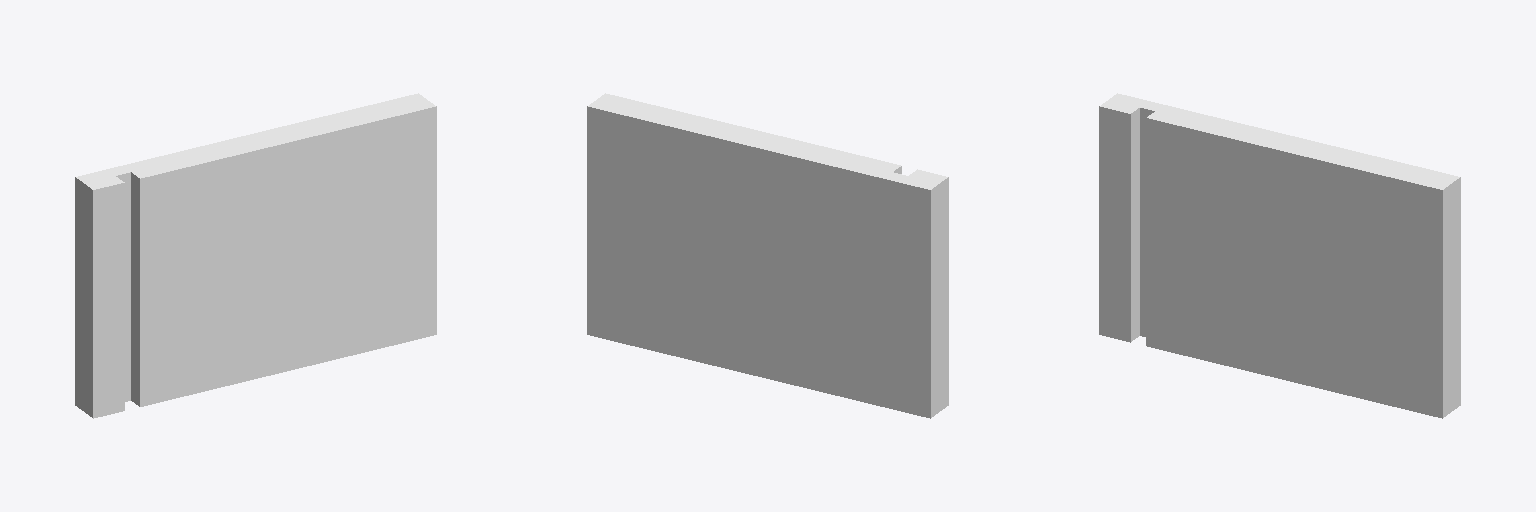
Rendered from KKLockOpen.obj.
3 views of the same model, side by side, from view 1: azimuth 30°, elevation 25°; view 2: azimuth 150°, elevation 25°; view 3: azimuth 330°, elevation 25° (orthographic).
Parts seen in each view (by area): view 1: object 1; view 2: object 1; view 3: object 1.
Boxes of the visible parts, <box> form: object 1: <box>75,93,436,418</box>; object 1: <box>587,93,948,418</box>; object 1: <box>1099,93,1460,418</box>.
Bounding box in the file's own units: 2.2 × 1.4 × 0.2.